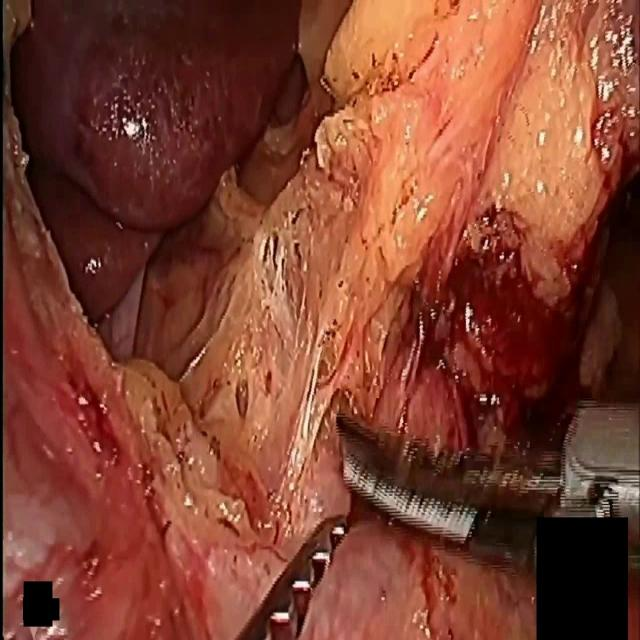surgical-area: (0, 1, 640, 639)
surgical-tool: (336, 401, 640, 563)
